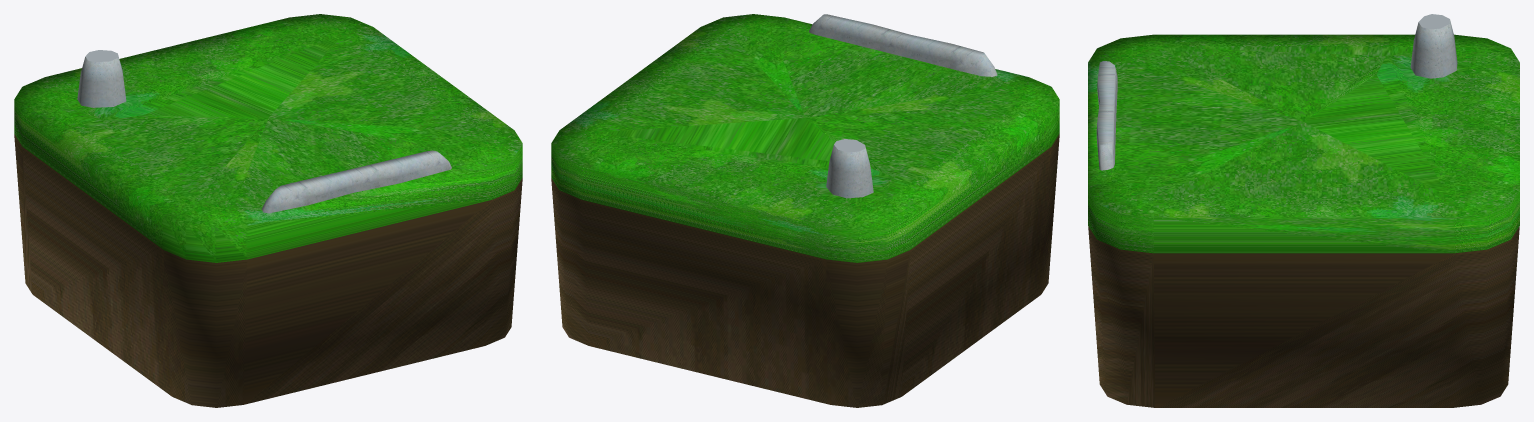
Rendered from HikeGardenGrassBlockA.obj.
The picture shows the model from 3 angles, left to right: view 1: azimuth 30°, elevation 25°; view 2: azimuth 150°, elevation 25°; view 3: azimuth 270°, elevation 25°; orthographic projection. The views are drawn at different scales.
Parts seen in each view (by area): view 1: Plane, Plane.001_Plane.013, Plane.002_Plane.014; view 2: Plane, Plane.001_Plane.013, Plane.002_Plane.014; view 3: Plane, Plane.001_Plane.013, Plane.002_Plane.014.
Part boxes in pixels (x1,y1,x2,y2): Plane: (14, 14, 522, 262); Plane.001_Plane.013: (14, 134, 522, 407); Plane.002_Plane.014: (77, 50, 451, 213); Plane: (551, 14, 1059, 262); Plane.001_Plane.013: (551, 134, 1059, 407); Plane.002_Plane.014: (809, 14, 997, 198); Plane: (1088, 34, 1519, 253); Plane.001_Plane.013: (1088, 226, 1519, 407); Plane.002_Plane.014: (1096, 14, 1457, 170).
Bounding box in the file's own units: 983 × 616 × 983.
4 materials, 4 textured.
